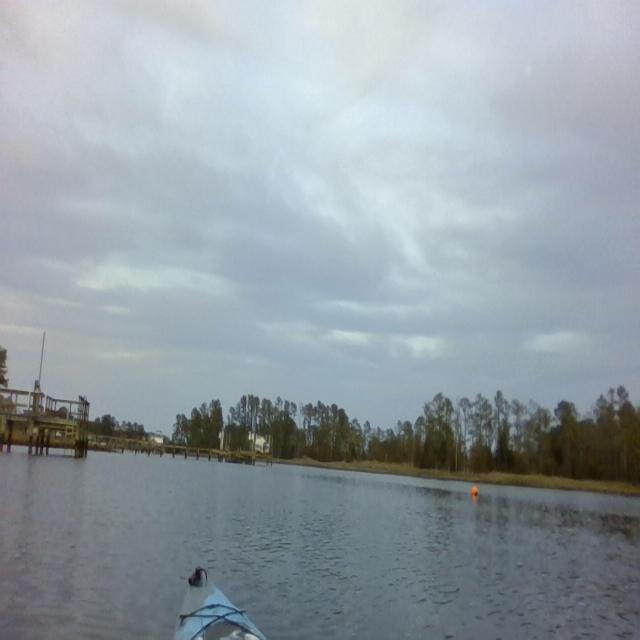Buoy: (470, 484, 480, 498)
